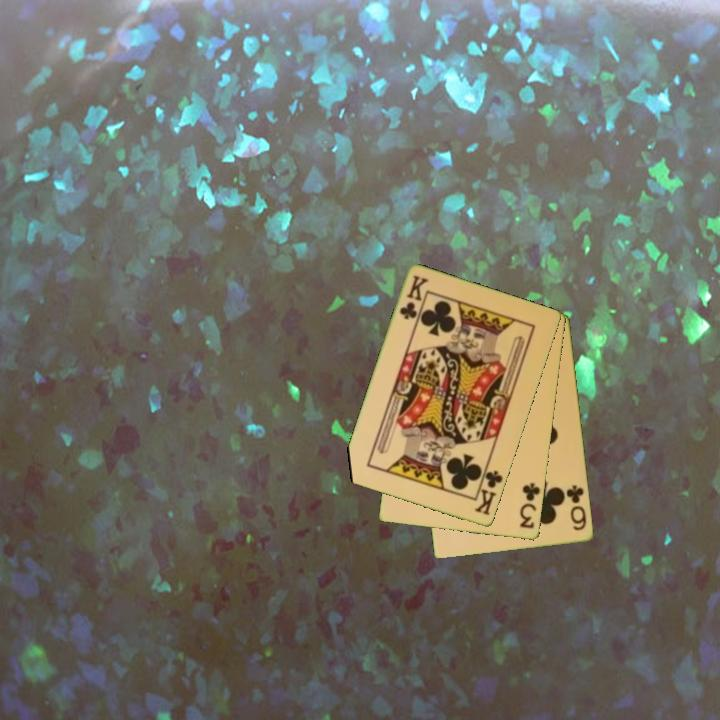3c: (516, 479, 543, 532)
6c: (563, 481, 590, 534)
Kc: (471, 462, 506, 518), (396, 272, 431, 323)
